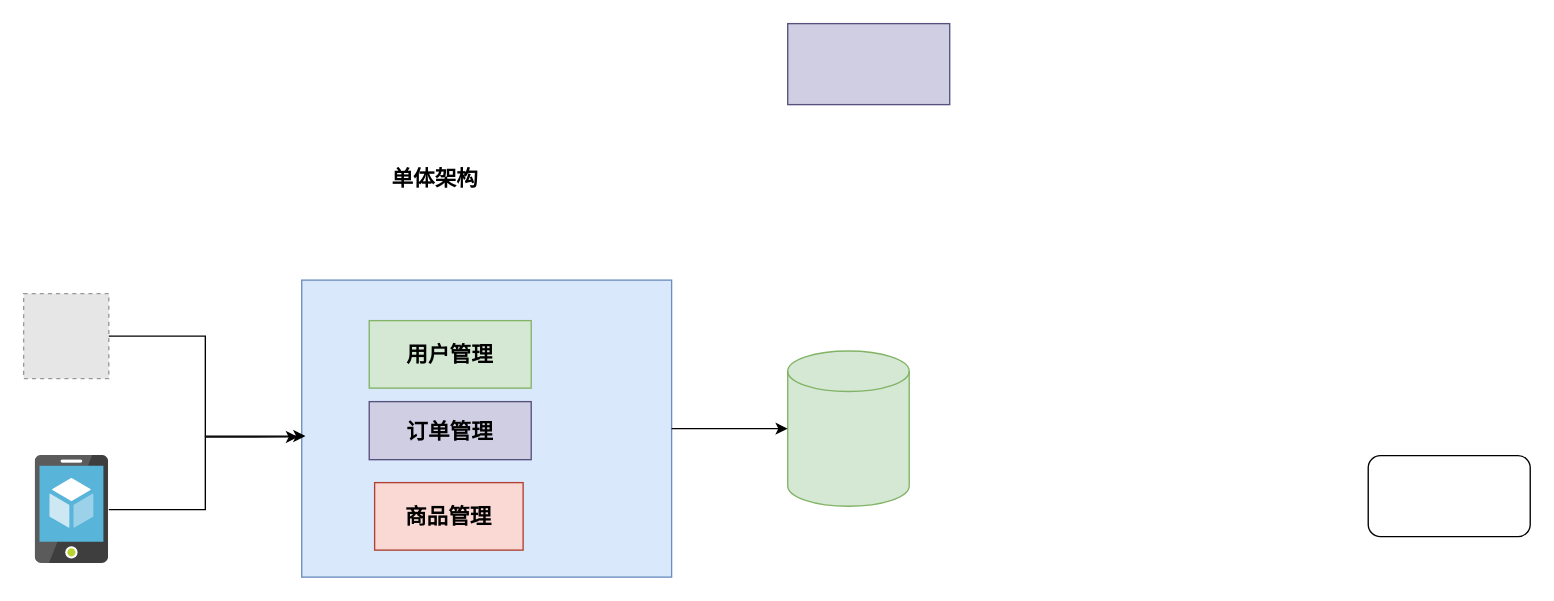
The diagram is 1554 pixels wide and 601 high, and some of its shapes have lost their labels. Grey dashed boxes stand in for pictures. The shapes that lost their labels are listed below. From the top down, each one's centre as x and y in pixels, then its label:
(x=868, y=63): 优点:
(x=847, y=428): 数据库
